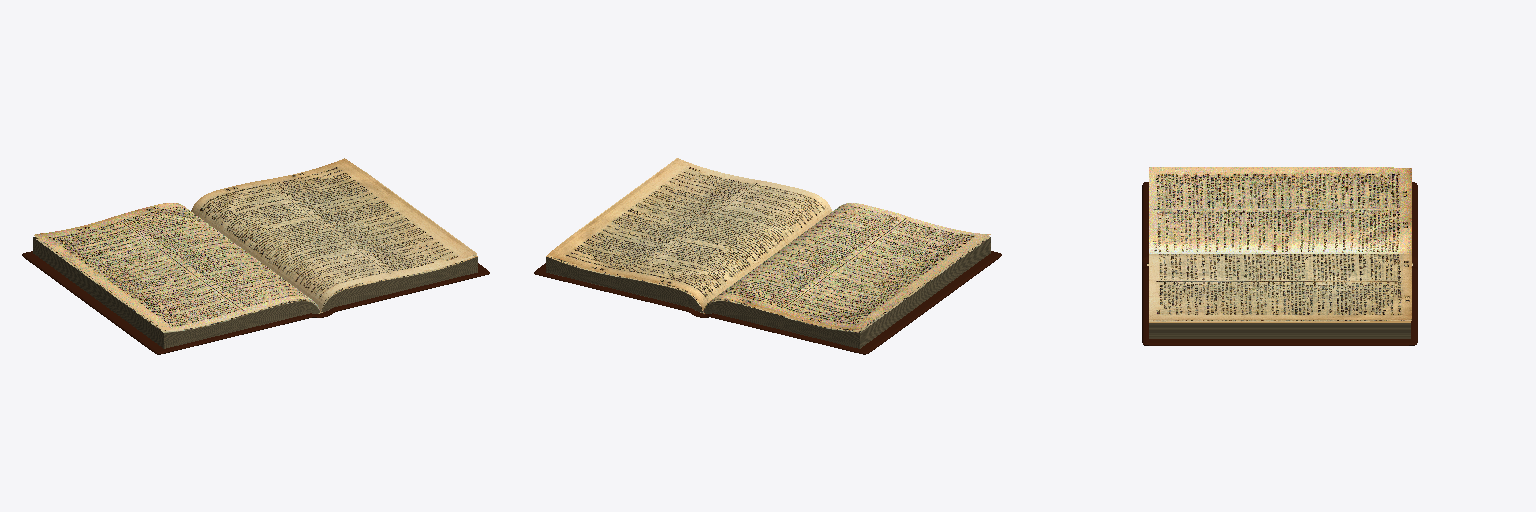
3 views of the same model, side by side, from view 1: azimuth 30°, elevation 25°; view 2: azimuth 150°, elevation 25°; view 3: azimuth 270°, elevation 25° (orthographic).
Parts seen in each view (by area): view 1: book_page_top_left_Untitled.003; view 2: book_page_top_left_Untitled.003; view 3: book_page_top_left_Untitled.003.
Part boxes in pixels (bbox=[...]): book_page_top_left_Untitled.003: bbox=[22, 158, 489, 354]; book_page_top_left_Untitled.003: bbox=[534, 158, 1001, 354]; book_page_top_left_Untitled.003: bbox=[1142, 167, 1417, 345].
Bounding box in the file's own units: 2.65 × 0.1844 × 1.88.
6 materials, 5 textured.